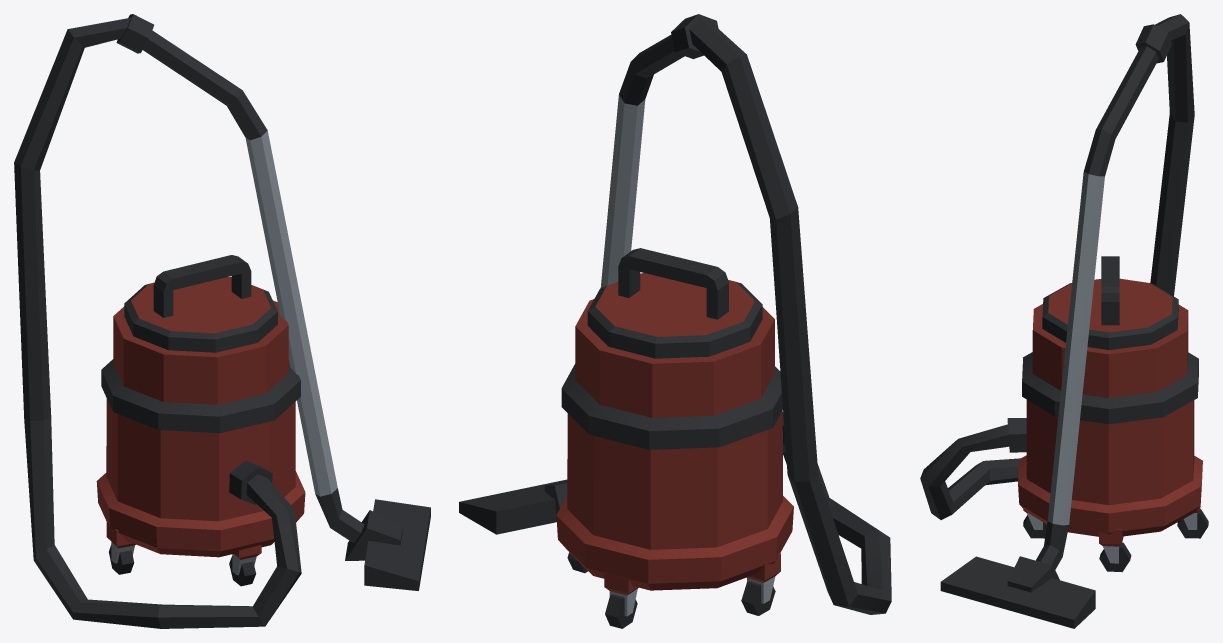
File: SM_Prop_Vacuum_01.glb
3 renders of one model, left to right at view 1: azimuth 30°, elevation 25°; view 2: azimuth 150°, elevation 25°; view 3: azimuth 270°, elevation 25°, orthographic. The views are drawn at different scales.
Visible parts, largest first — view 1: SM_Prop_Vacuum_01; view 2: SM_Prop_Vacuum_01; view 3: SM_Prop_Vacuum_01.
Part boxes in pixels (x1,y1,x2,y2): SM_Prop_Vacuum_01: [14, 14, 430, 628]; SM_Prop_Vacuum_01: [459, 14, 891, 628]; SM_Prop_Vacuum_01: [920, 14, 1208, 628].
Size of the model in its own units: 0.9258 by 1.28 by 0.6741.
Materials: 1 (1 with a texture image).
